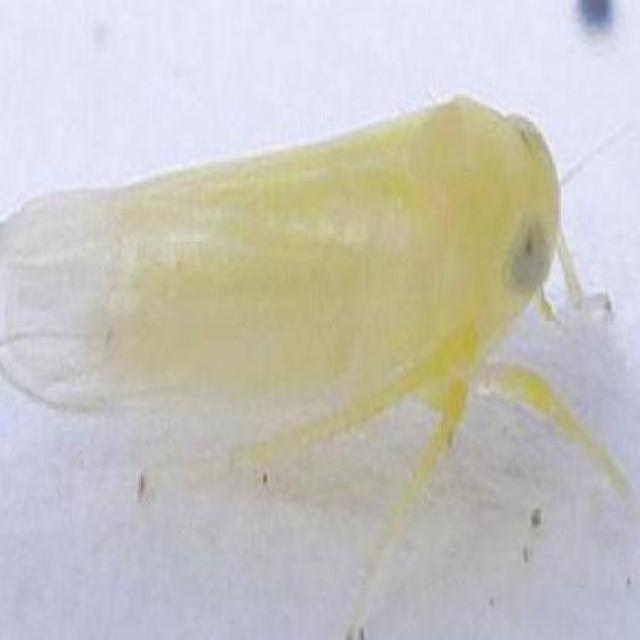green-leafhopper: (9, 110, 553, 404)
